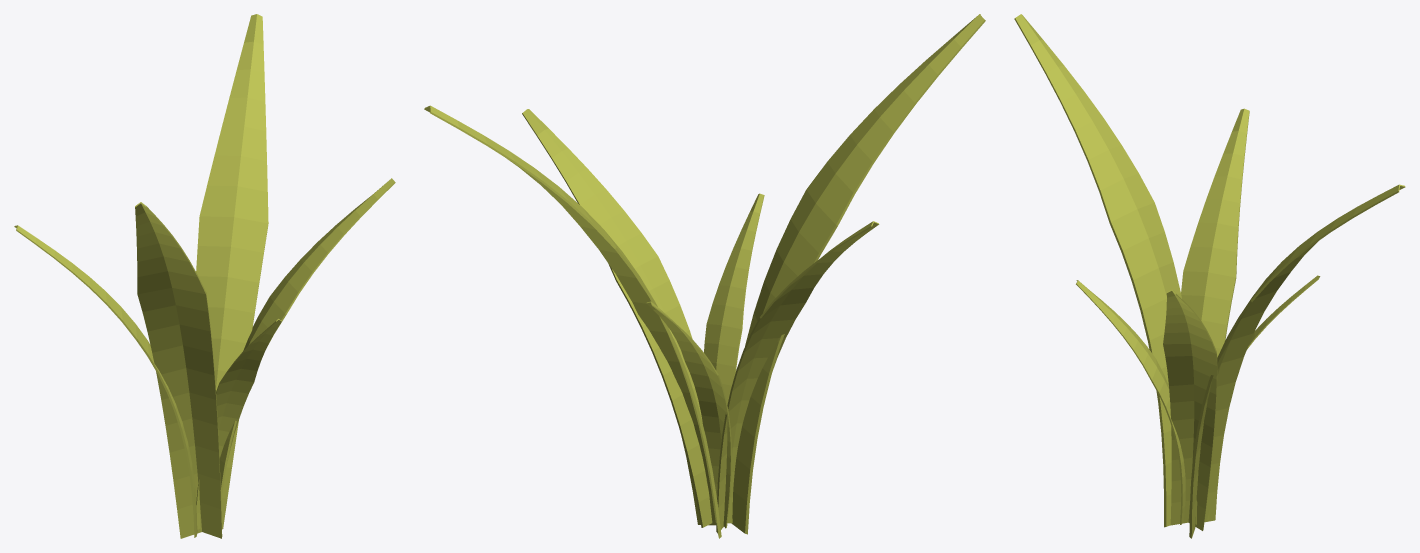
File: grass_03.fbx
3 renders of one model, left to right at view 1: azimuth 30°, elevation 25°; view 2: azimuth 150°, elevation 25°; view 3: azimuth 270°, elevation 25°, orthographic. The views are drawn at different scales.
Visible parts, largest first — view 1: Cube.018; view 2: Cube.018; view 3: Cube.018.
Part boxes in pixels (left/top/right/bottom): Cube.018: left=14, top=14, right=395, bottom=538; Cube.018: left=424, top=14, right=985, bottom=538; Cube.018: left=1014, top=14, right=1405, bottom=538.
Bounding box in the file's own units: 43.97 × 52.07 × 41.8.
